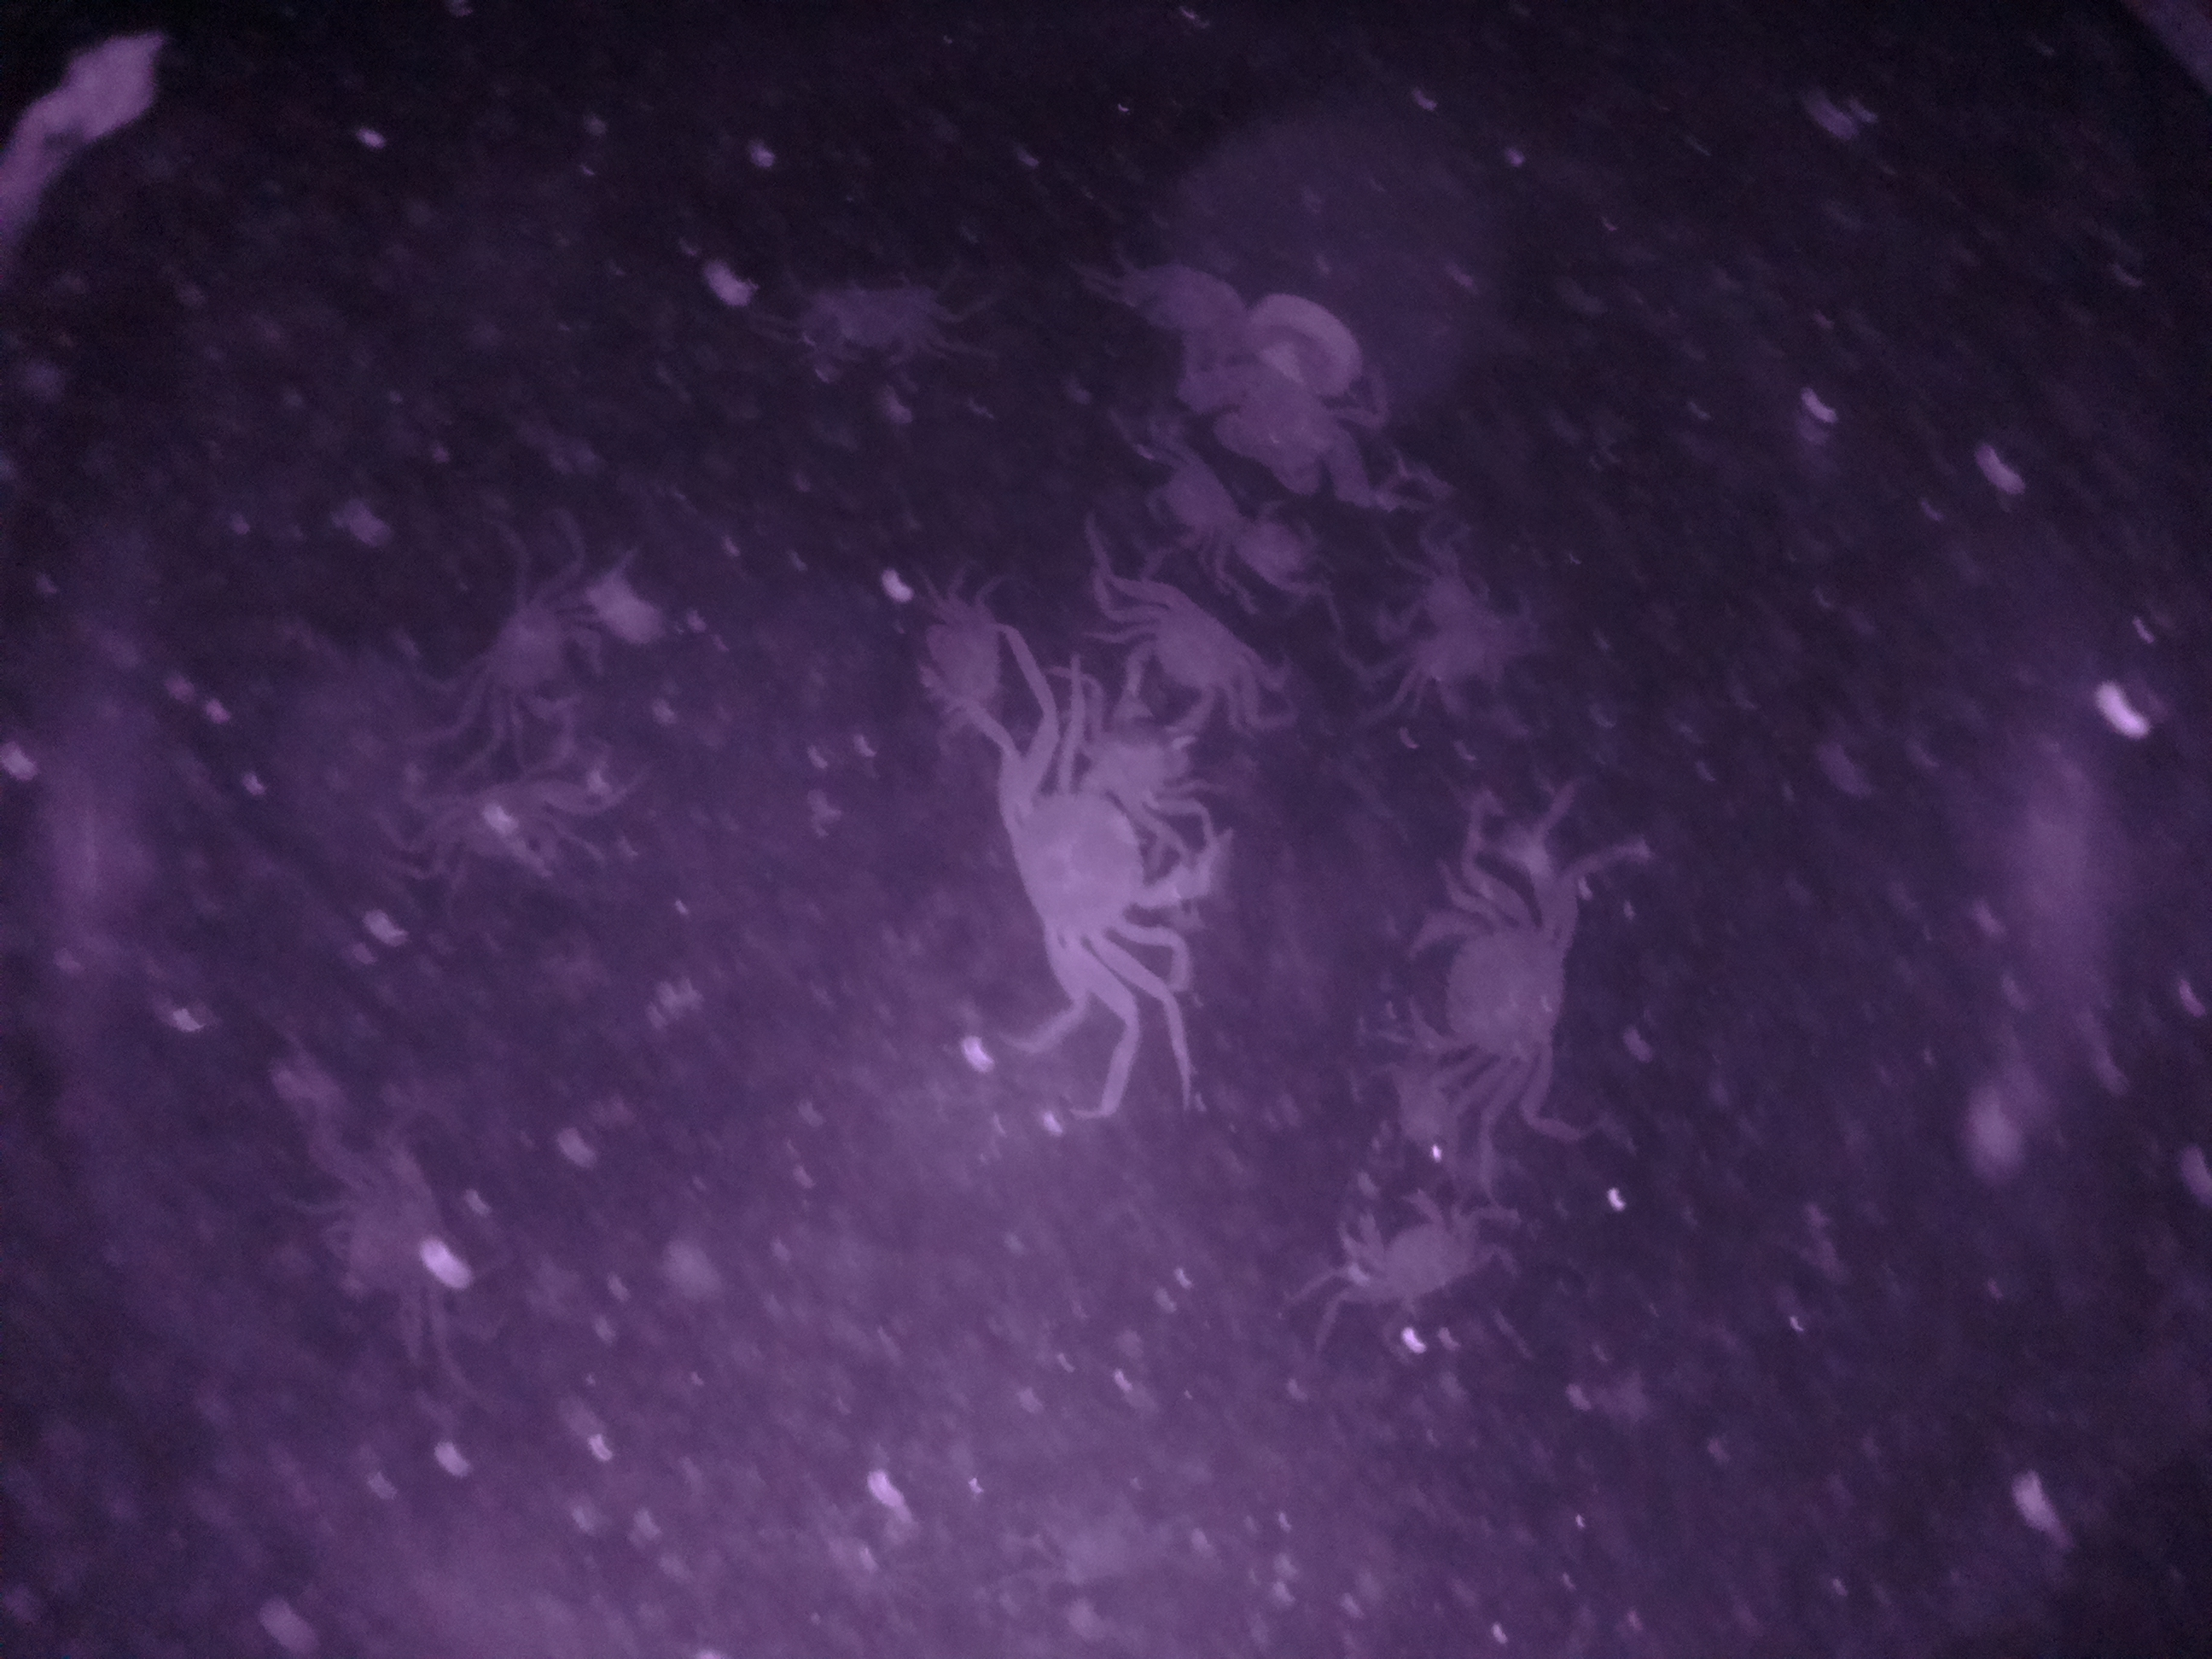Crab: (1376, 871, 1608, 1108), (1082, 554, 1299, 751), (1318, 1176, 1536, 1344), (458, 573, 629, 742)
